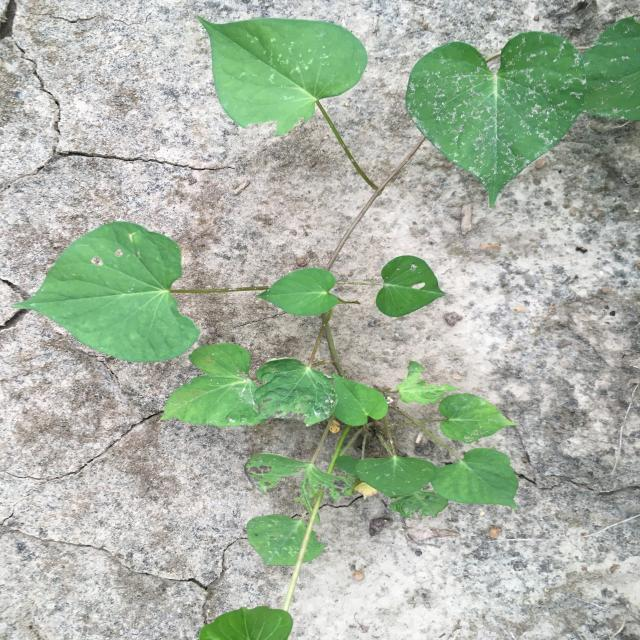MorningGlory: (13, 16, 640, 640)
